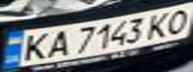1: (93, 20, 115, 51)
3: (124, 15, 151, 44)
4: (109, 18, 133, 47)
7: (72, 24, 96, 55)
A: (42, 27, 75, 60)
K: (15, 30, 54, 63), (142, 9, 175, 39)
O: (160, 6, 193, 35)
